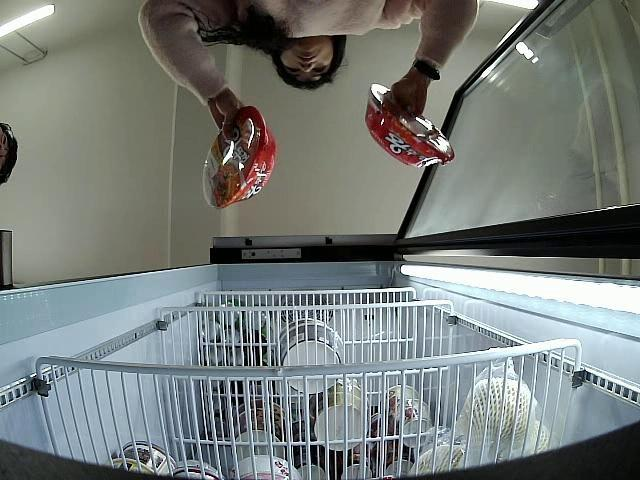10_wangTtukkeong: (364, 82, 455, 170), (203, 108, 276, 209)
